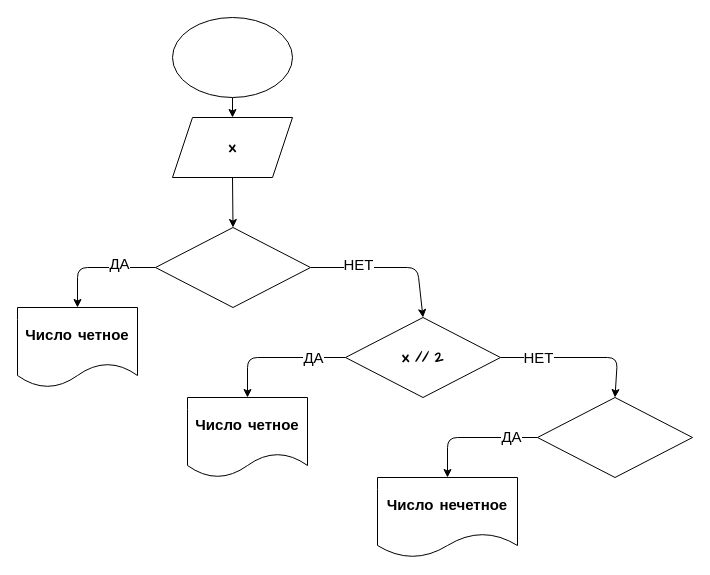
This 710x575 diagram has some shape labels left out. The centre of each missing label's shape, as x and y in pixels:
!(x // 2): the point at 614,437
Start: the point at 232,57
x == 0: the point at 232,267
